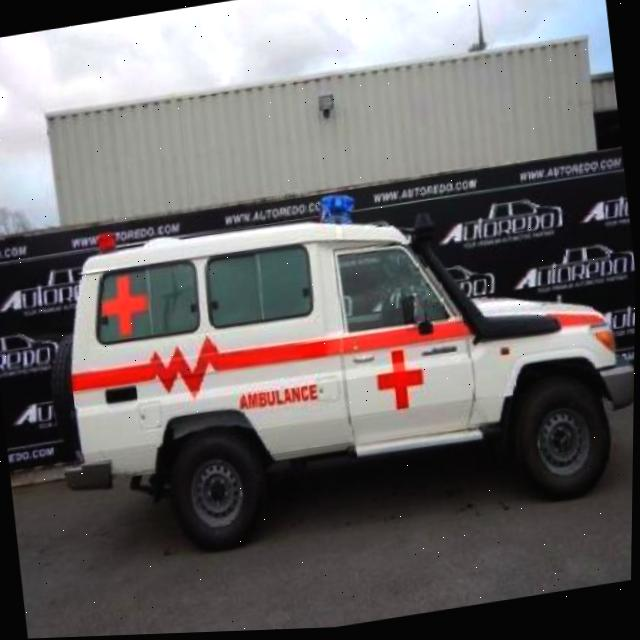emergency: (32, 155, 638, 578)
